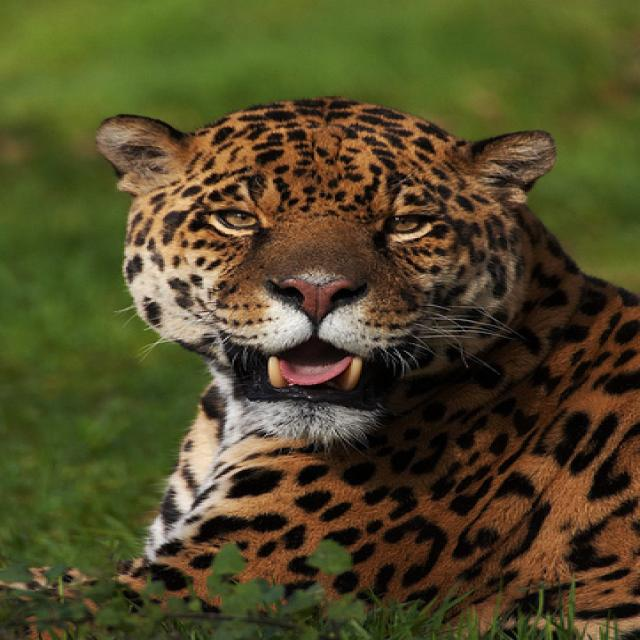Leopard: (0, 90, 635, 636)
